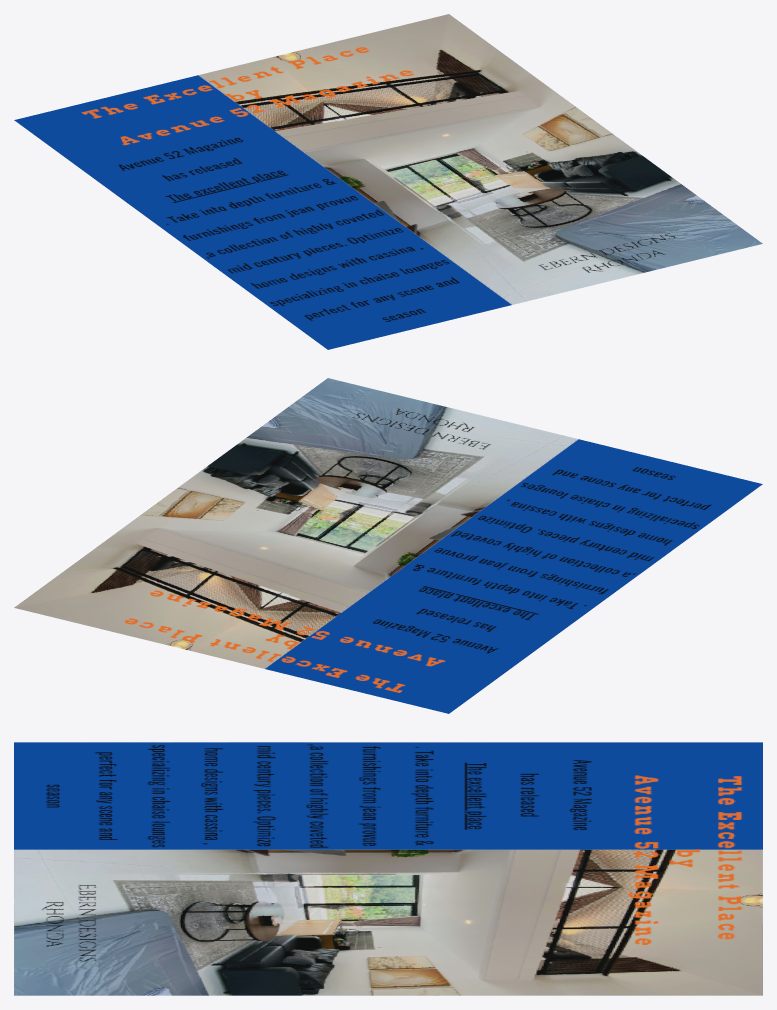
The model's file is excellent2.glb.
3 views of the same model, one above another, from view 1: azimuth 30°, elevation 25°; view 2: azimuth 150°, elevation 25°; view 3: azimuth 270°, elevation 25° (orthographic). The views are drawn at different scales.
Parts seen in each view (by area): view 1: Plane; view 2: Plane; view 3: Plane.
Boxes of the visible parts, x1,y1,x2,y2 form: Plane: (14,14,762,349); Plane: (14,378,762,713); Plane: (14,742,762,995).
Size of the model in its own units: 0.4 by 0 by 0.5.
Materials: 1 (1 with a texture image).
